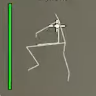hacks_2: (8, 3, 71, 90)
